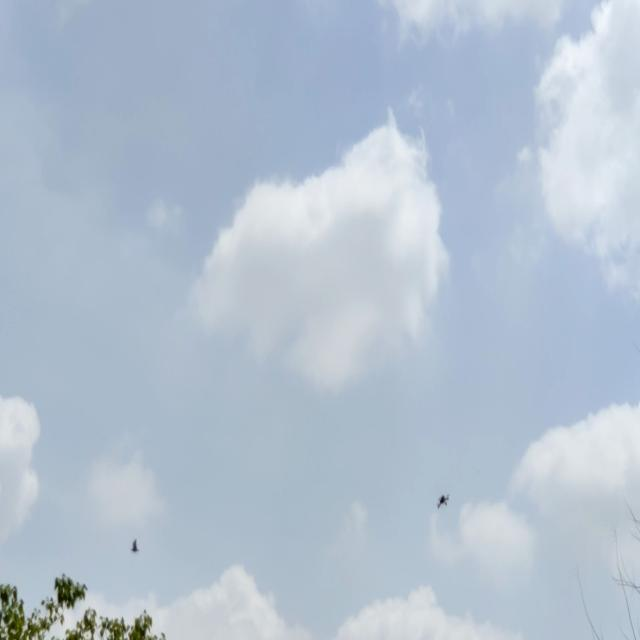drone: (432, 490, 454, 512)
